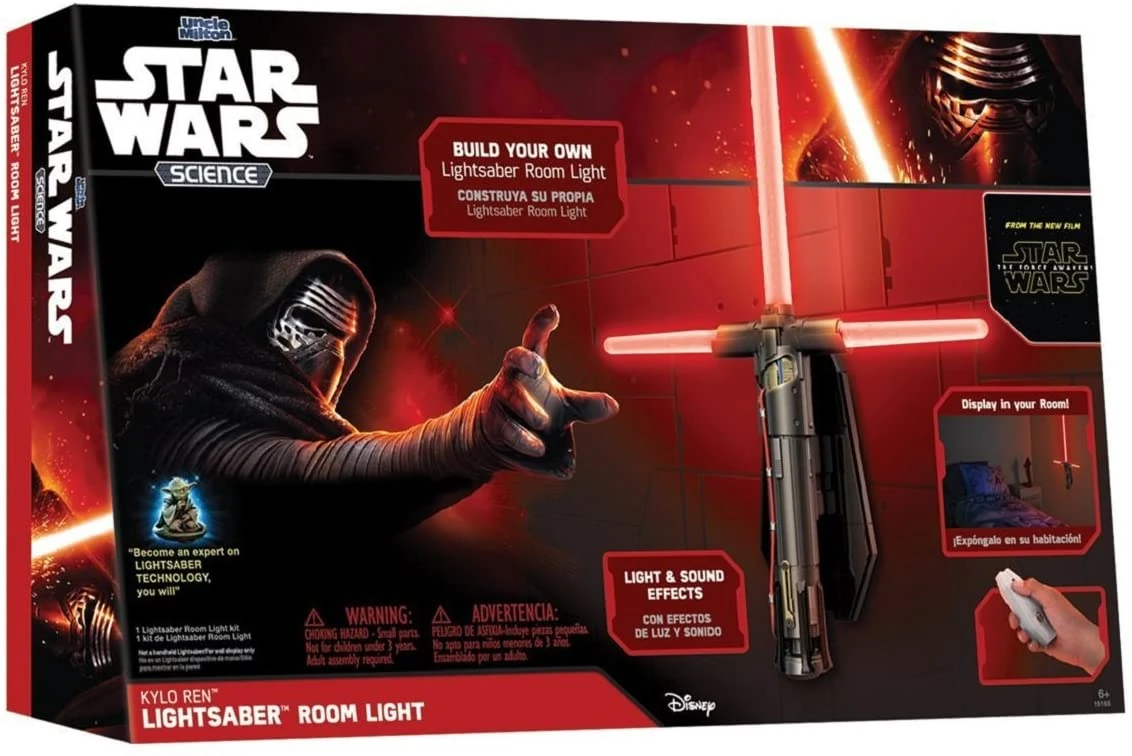cats: (601, 17, 998, 687)
